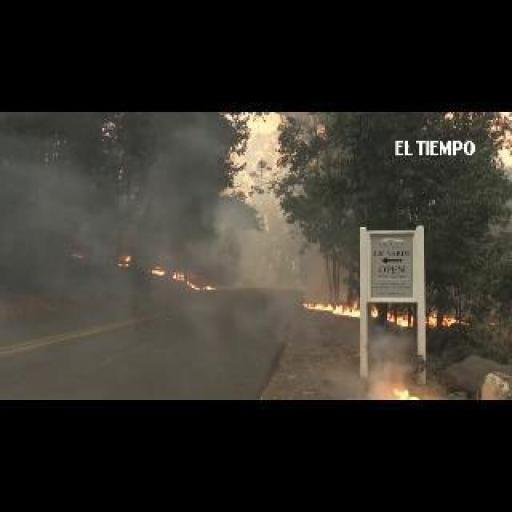smoke: (304, 298, 360, 318), (387, 310, 411, 326), (394, 389, 419, 400), (445, 315, 469, 325), (429, 314, 437, 328), (186, 282, 200, 290), (152, 269, 165, 277), (173, 272, 184, 280), (203, 284, 213, 290), (370, 306, 376, 315), (124, 256, 130, 261)
